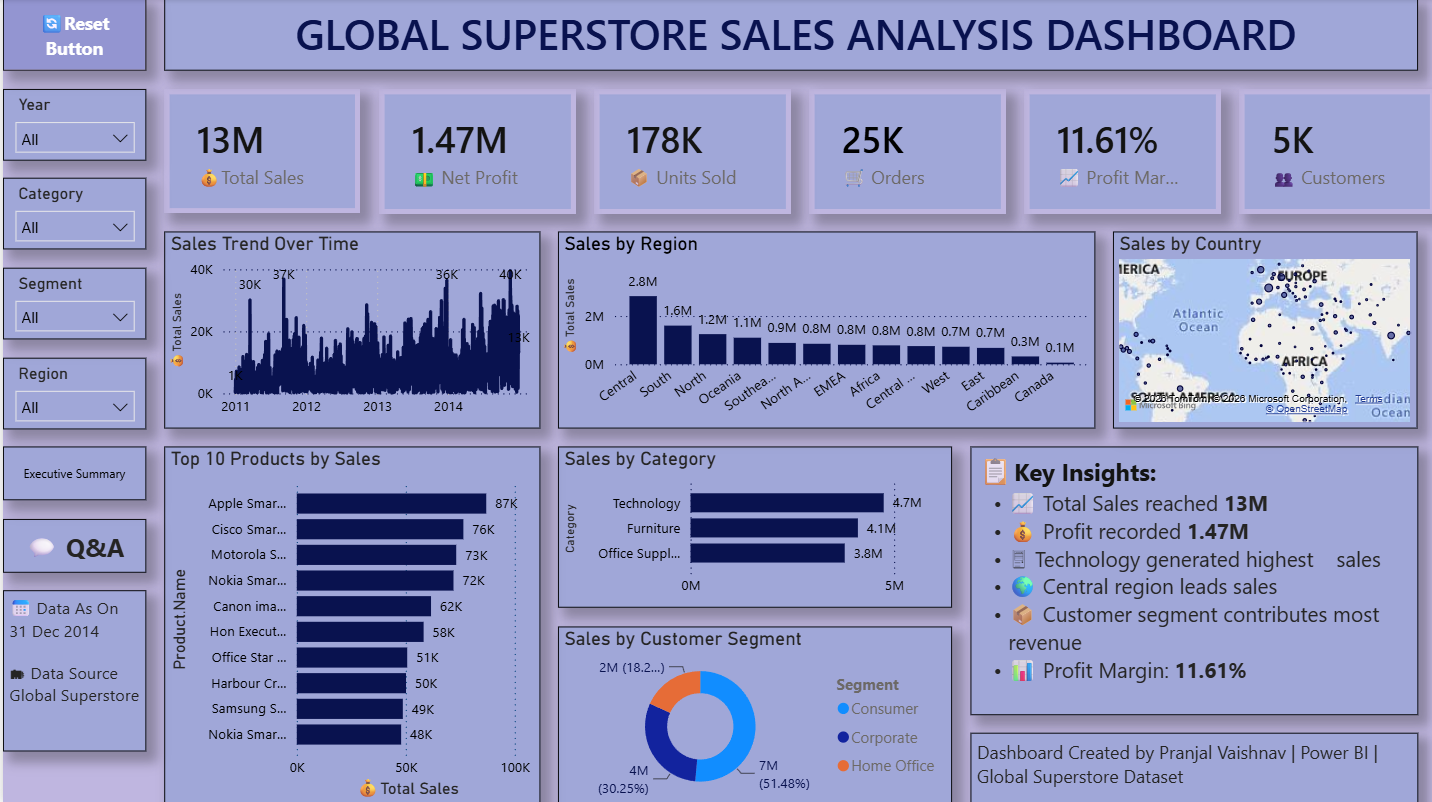

The page's visual inventory and layout, read from the dashboard file:
{"tool":"powerbi","page":{"name":"global superstore","canvas":[1280,720],"ordinal":0},"visuals":[{"type":"cardVisual","fields":{"Data":["superstore_fixed.Total Sales"]},"box":[144,80,175,111],"z":0},{"type":"cardVisual","fields":{"Data":["superstore_fixed.Total Profit"]},"box":[336,80,176,112],"z":1000},{"type":"cardVisual","fields":{"Data":["superstore_fixed.Total Orders"]},"box":[720,80,176,112],"z":2000},{"type":"cardVisual","fields":{"Data":["superstore_fixed.Total Quantity"]},"box":[528,80,176,112],"z":3000},{"type":"cardVisual","fields":{"Data":["superstore_fixed.Profit Margin %"]},"box":[912,80,176,112],"z":4000},{"type":"lineChart","title":"Sales Trend Over Time","fields":{"Y":["superstore_fixed.Total Sales"],"Category":["superstore_fixed.Order.Date"]},"box":[144,208,336,176],"z":5000},{"type":"clusteredBarChart","title":" Sales by Category","fields":{"Category":["superstore_fixed.Category"],"Y":["superstore_fixed.Total Sales"]},"box":[496,400,352,144],"z":6000},{"type":"clusteredColumnChart","title":"Sales by Region","fields":{"Category":["superstore_fixed.Region"],"Y":["superstore_fixed.Total Sales"]},"box":[496,208,480,176],"z":7000},{"type":"donutChart","title":" Sales by Customer Segment","fields":{"Category":["superstore_fixed.Segment"],"Y":["superstore_fixed.Total Sales"]},"box":[496,560,352,160],"z":8000},{"type":"clusteredBarChart","title":"Top 10 Products by Sales","fields":{"Category":["superstore_fixed.Product.Name"],"Y":["superstore_fixed.Total Sales"]},"box":[144,400,336,320],"z":9000},{"type":"slicer","fields":{"Values":["superstore_fixed.Year"]},"box":[0,80,128,64],"z":10000},{"type":"slicer","fields":{"Values":["superstore_fixed.Region"]},"box":[0,320,128,64],"z":11000},{"type":"slicer","fields":{"Values":["superstore_fixed.Category"]},"box":[0,160,128,64],"z":12000},{"type":"slicer","fields":{"Values":["superstore_fixed.Segment"]},"box":[0,240,128,64],"z":13000},{"type":"textbox","box":[144,0,1120,64],"z":14000},{"type":"actionButton","box":[0,0,128,64],"z":15000},{"type":"actionButton","box":[0,464,128,48],"z":16000},{"type":"textbox","box":[864,400,400,240],"z":17000},{"type":"cardVisual","fields":{"Data":["superstore_fixed.Total Customers"]},"box":[1104,80,176,112],"z":19000},{"type":"textbox","box":[0,528,128,144],"z":20000},{"type":"textbox","box":[864,656,400,64],"z":21000},{"type":"actionButton","box":[0,400,128,48],"z":22000},{"type":"map","title":"Sales by Country","fields":{"Category":["superstore_fixed.Country"],"Size":["superstore_fixed.💰Total Sales"]},"box":[992,208,272,176],"z":22001}]}

Visuals, with their boxes in screenshot pixels (x1, y1, x2, y2), scaled from the page's 1280x720 canvas onto the 1432x802 screenshot:
cardVisual - superstore_fixed.Total Sales: bbox=[161, 89, 357, 213]
cardVisual - superstore_fixed.Total Profit: bbox=[376, 89, 573, 214]
cardVisual - superstore_fixed.Total Orders: bbox=[805, 89, 1002, 214]
cardVisual - superstore_fixed.Total Quantity: bbox=[591, 89, 788, 214]
cardVisual - superstore_fixed.Profit Margin %: bbox=[1020, 89, 1217, 214]
"Sales Trend Over Time" lineChart: bbox=[161, 232, 537, 428]
" Sales by Category" clusteredBarChart: bbox=[555, 446, 949, 606]
"Sales by Region" clusteredColumnChart: bbox=[555, 232, 1092, 428]
" Sales by Customer Segment" donutChart: bbox=[555, 624, 949, 801]
"Top 10 Products by Sales" clusteredBarChart: bbox=[161, 446, 537, 801]
slicer - superstore_fixed.Year: bbox=[0, 89, 143, 160]
slicer - superstore_fixed.Region: bbox=[0, 356, 143, 428]
slicer - superstore_fixed.Category: bbox=[0, 178, 143, 250]
slicer - superstore_fixed.Segment: bbox=[0, 267, 143, 339]
textbox: bbox=[161, 0, 1414, 71]
actionButton: bbox=[0, 0, 143, 71]
actionButton: bbox=[0, 517, 143, 570]
textbox: bbox=[967, 446, 1414, 713]
cardVisual - superstore_fixed.Total Customers: bbox=[1235, 89, 1431, 214]
textbox: bbox=[0, 588, 143, 749]
textbox: bbox=[967, 731, 1414, 801]
actionButton: bbox=[0, 446, 143, 499]
"Sales by Country" map: bbox=[1110, 232, 1414, 428]
